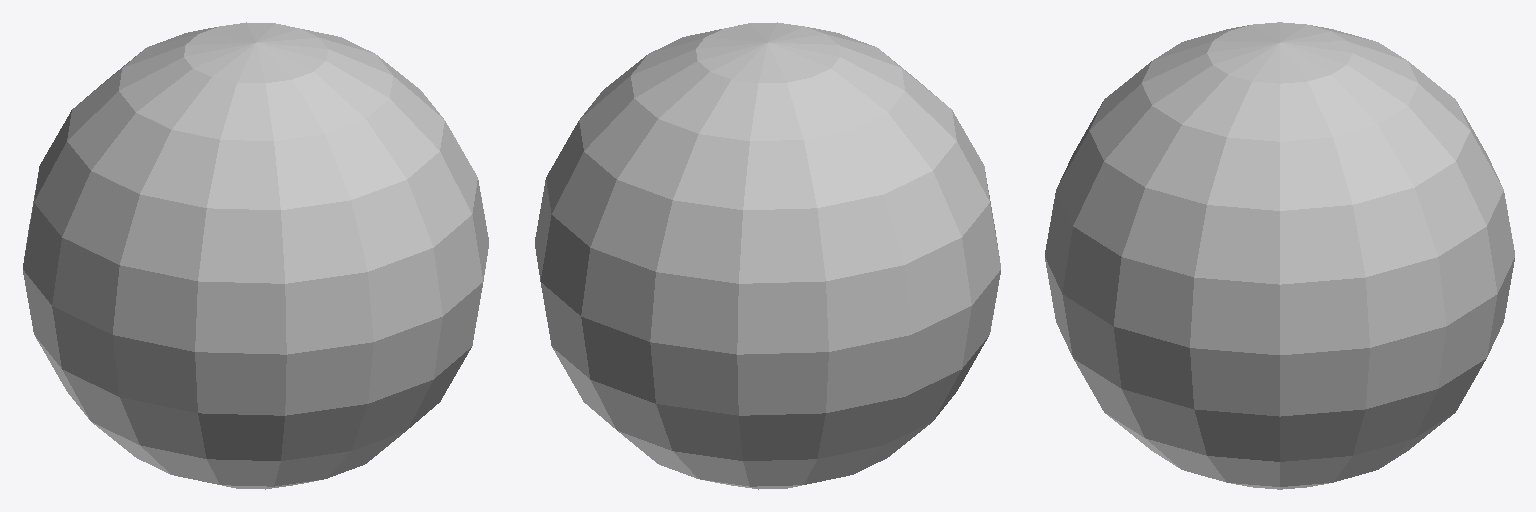
The model's file is FB_Bomb_Prop.obj.
The picture shows the model from 3 angles: view 1: azimuth 30°, elevation 25°; view 2: azimuth 150°, elevation 25°; view 3: azimuth 270°, elevation 25°; orthographic projection.
Visible parts, largest first — view 1: Bomb; view 2: Bomb; view 3: Bomb.
Boxes of the visible parts, box(x1,y1,x2,y2) form: Bomb: box(23, 22, 488, 489); Bomb: box(535, 22, 1000, 489); Bomb: box(1045, 22, 1514, 489).
Size of the model in its own units: 69.49 by 69.49 by 69.49.